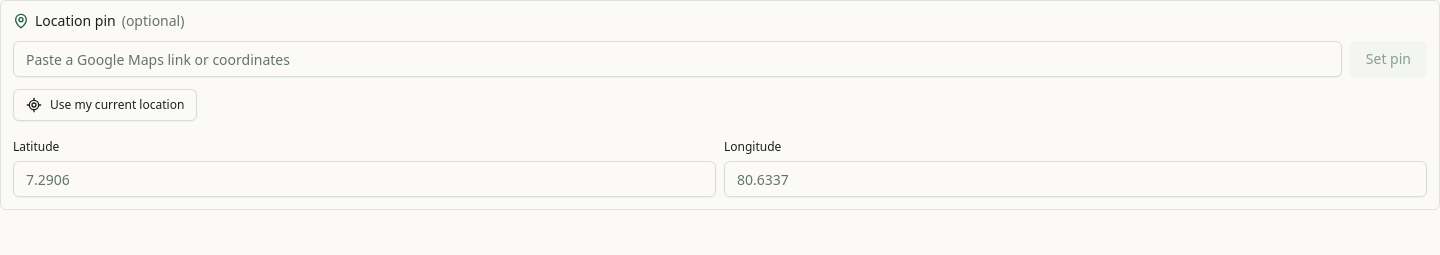
Test: LocationPicker › explains when location access is refused
The image size is (1440, 255).
Click the button "Use my current location": [105, 105] box [13, 89, 197, 121]
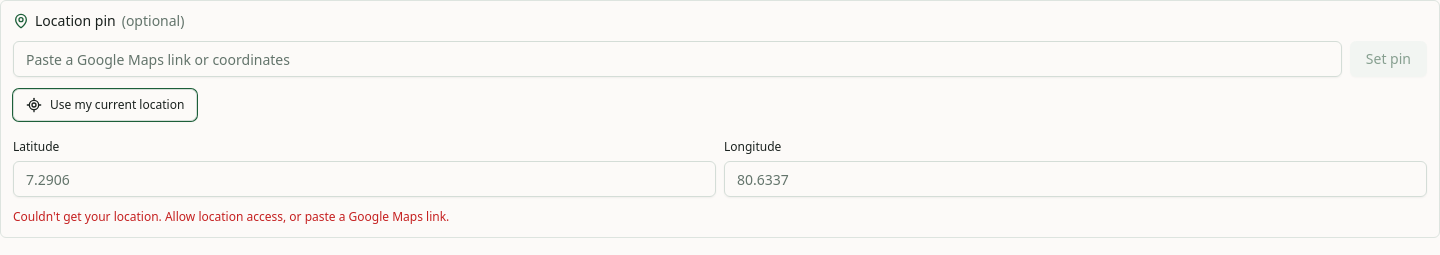
Result: the text "Couldn't get your location" is shown at [13, 208, 449, 225]
